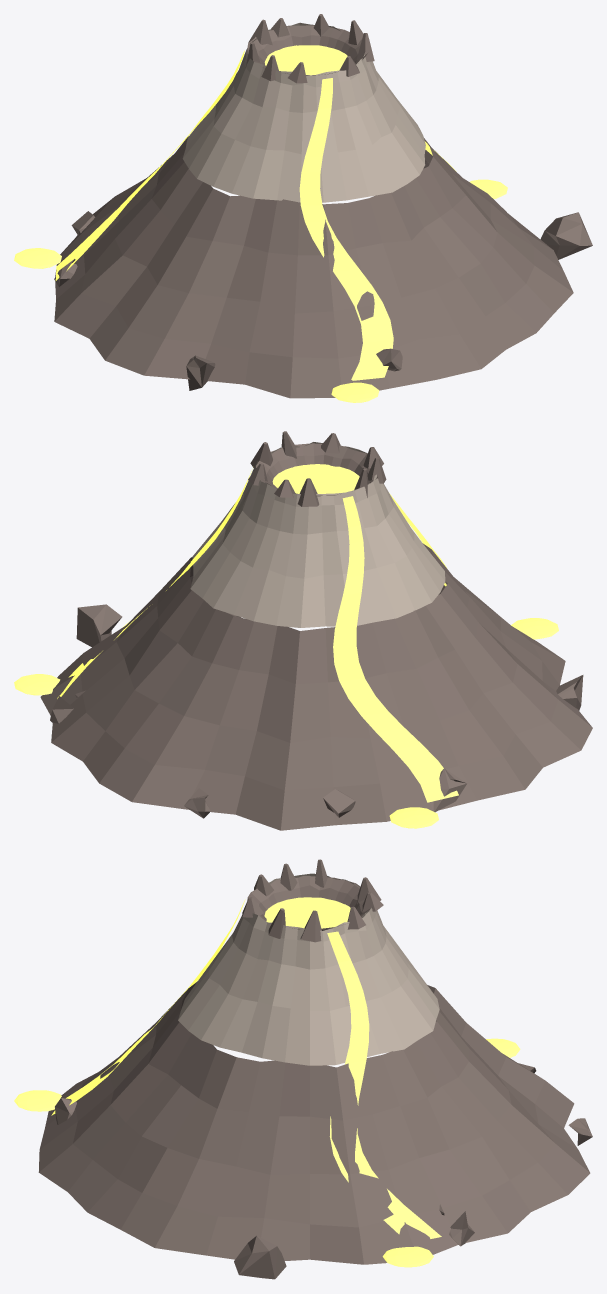
Rendered from VolcanoBig.fbx.
3 renders of one model, top to bottom at view 1: azimuth 30°, elevation 25°; view 2: azimuth 150°, elevation 25°; view 3: azimuth 270°, elevation 25°, orthographic. The views are drawn at different scales.
Parts seen in each view (by area): view 1: RockDark, Rock, Lava; view 2: RockDark, Rock, Lava; view 3: RockDark, Rock, Lava.
Boxes of the visible parts, x1,y1,x2,y2 form: RockDark: (54, 14, 592, 398); Rock: (182, 22, 425, 202); Lava: (14, 45, 507, 402); RockDark: (40, 431, 592, 830); Rock: (190, 442, 445, 627); Lava: (14, 464, 558, 828); RockDark: (38, 859, 592, 1279); Rock: (178, 873, 439, 1065); Lava: (14, 897, 520, 1267).
Size of the model in its own units: 158 by 83.17 by 157.
